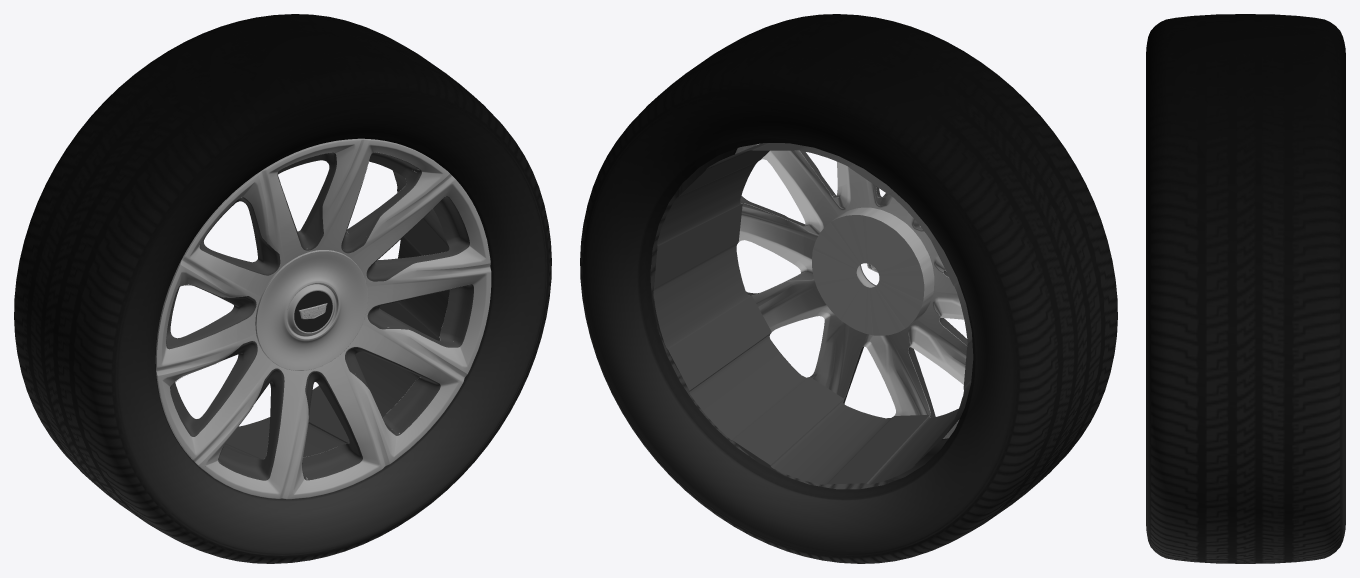
The picture shows the model from 3 angles, left to right: view 1: azimuth 30°, elevation 25°; view 2: azimuth 150°, elevation 25°; view 3: azimuth 270°, elevation 25°; orthographic projection.
Parts seen in each view (by area): view 1: sgg_wheel; view 2: sgg_wheel; view 3: sgg_wheel.
Boxes of the visible parts, x1=… form: sgg_wheel: x1=14, y1=14, x2=551, y2=563; sgg_wheel: x1=580, y1=14, x2=1117, y2=563; sgg_wheel: x1=1146, y1=14, x2=1345, y2=563.
Size of the model in its own units: 0.8371 by 0.8371 by 0.3041.
